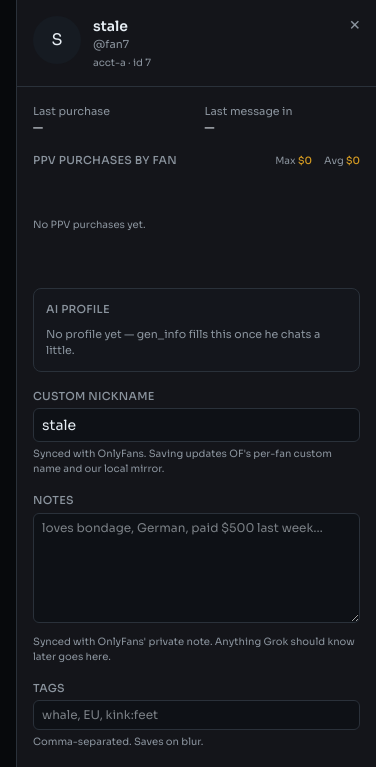
Test: FanDrawer edit-freshness › re-reads again once the stale window passes (pinned drawer, open all day)
The width and height of the screenshot is (376, 767).
Click the field with placeholder "Fan Seven": (196, 425) [33,408,360,442]
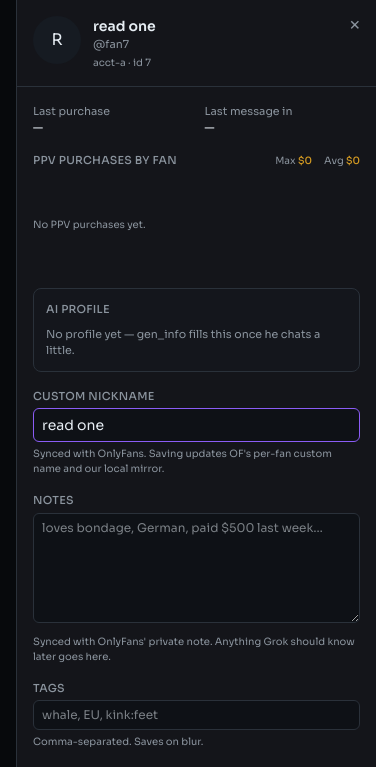
Result: the field with placeholder "Fan Seven" holds "read one" at [33,408,360,442]
Click the text box with placeholder "loves bondage, German, paid $500 last week…": (196, 568) [33,512,360,622]
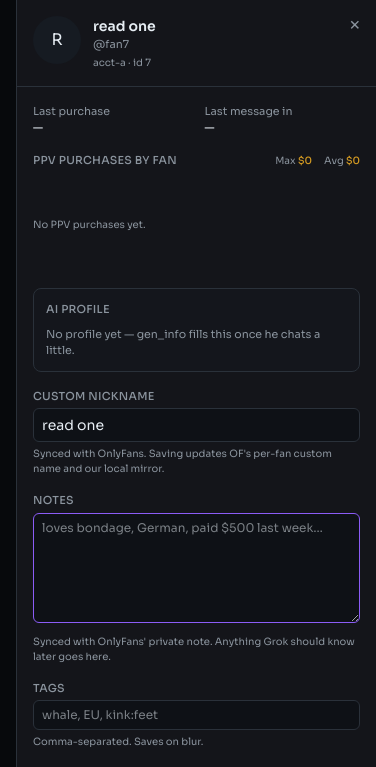
Click the field with placeholder "Fan Seven": (196, 425) [33,408,360,442]
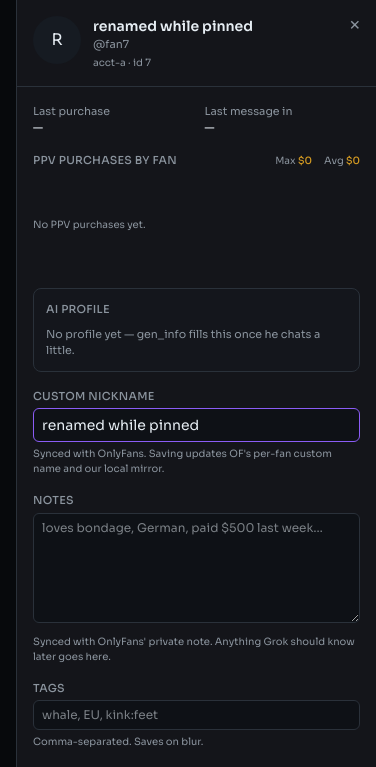
Result: the field with placeholder "Fan Seven" holds "renamed while pinned" at [33,408,360,442]
